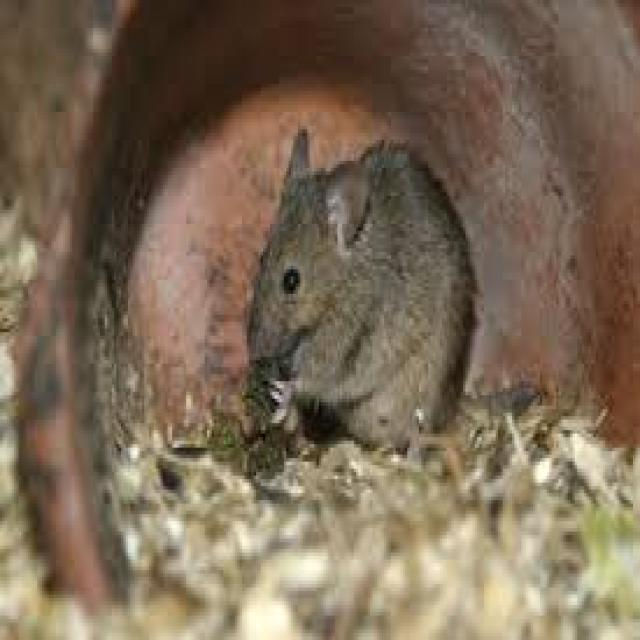Rat: (258, 89, 489, 466)
